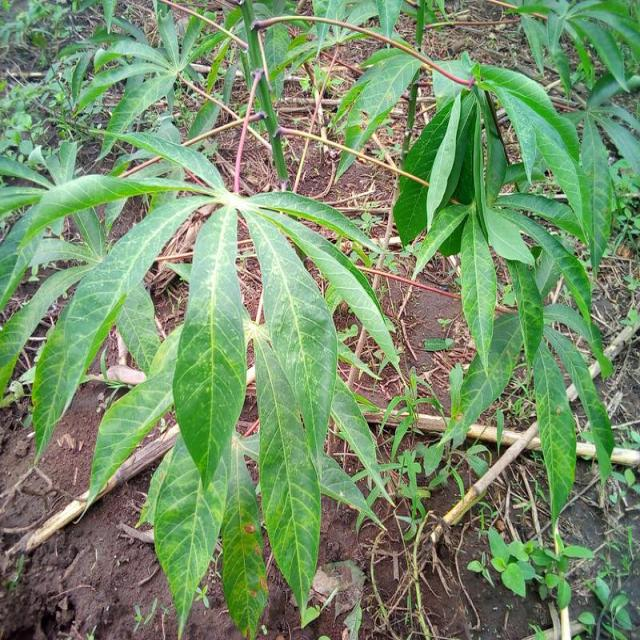Mosaico: (50, 147, 386, 394), (149, 425, 340, 618), (438, 305, 601, 518)
